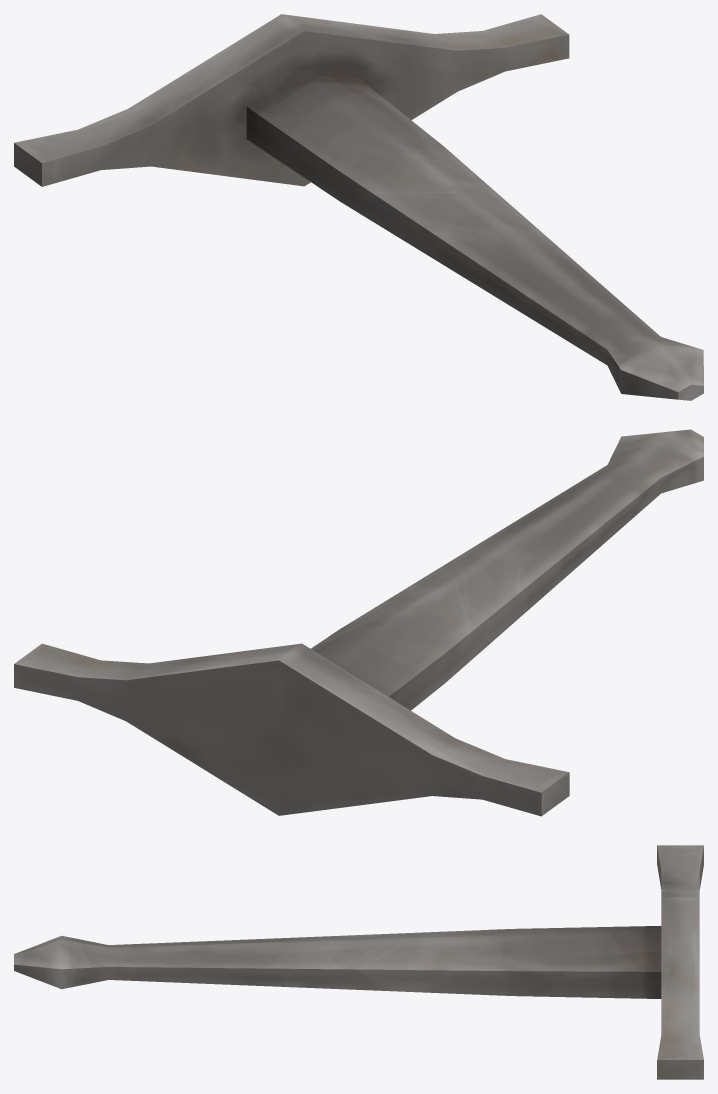
File: hilt4.FBX
3 renders of one model, top to bottom at view 1: azimuth 30°, elevation 25°; view 2: azimuth 150°, elevation 25°; view 3: azimuth 270°, elevation 25°, orthographic. The views are drawn at different scales.
Parts seen in each view (by area): view 1: hilt004; view 2: hilt004; view 3: hilt004.
Part boxes in pixels (left/top/right/bottom): hilt004: left=14, top=14, right=703, bottom=400; hilt004: left=14, top=429, right=703, bottom=816; hilt004: left=14, top=845, right=703, bottom=1079.
Bounding box in the file's own units: 0.4217 × 0.5725 × 0.1188.
